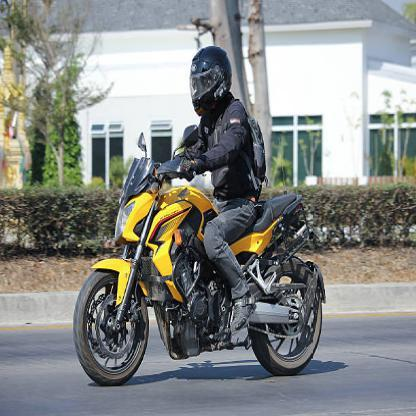Motorcycle: (72, 121, 324, 383)
